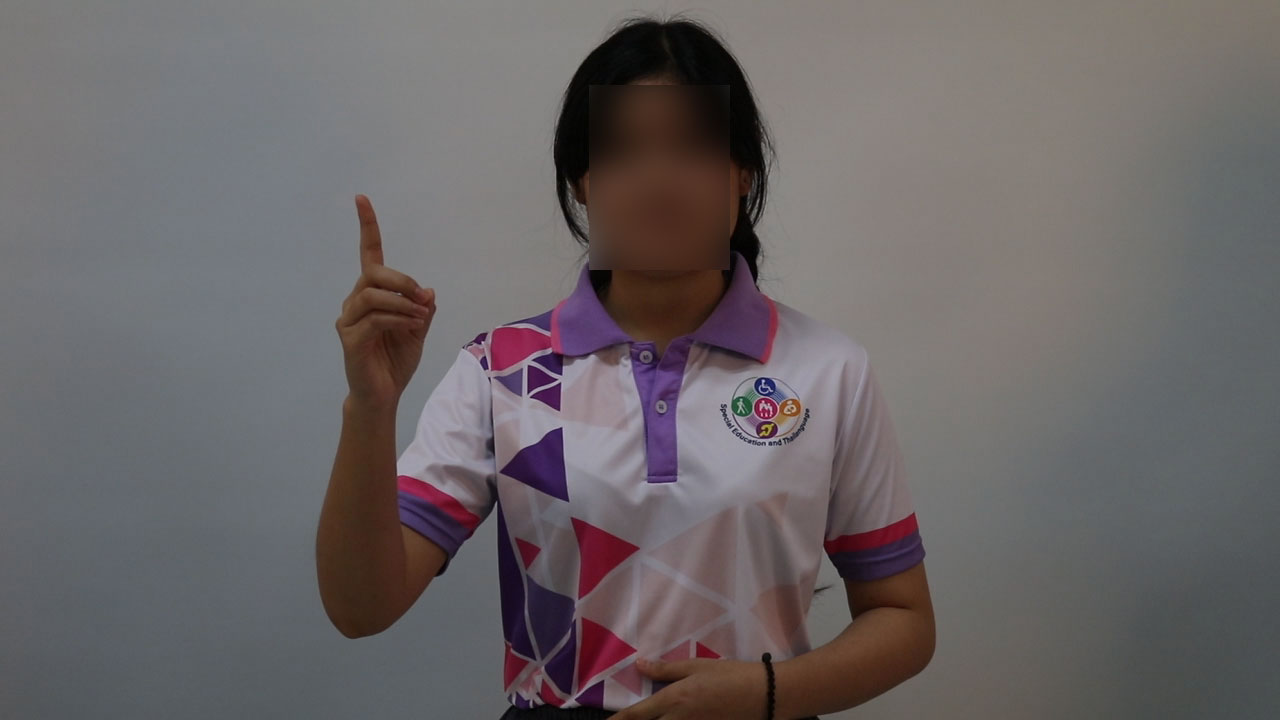dor: (319, 185, 449, 398)
